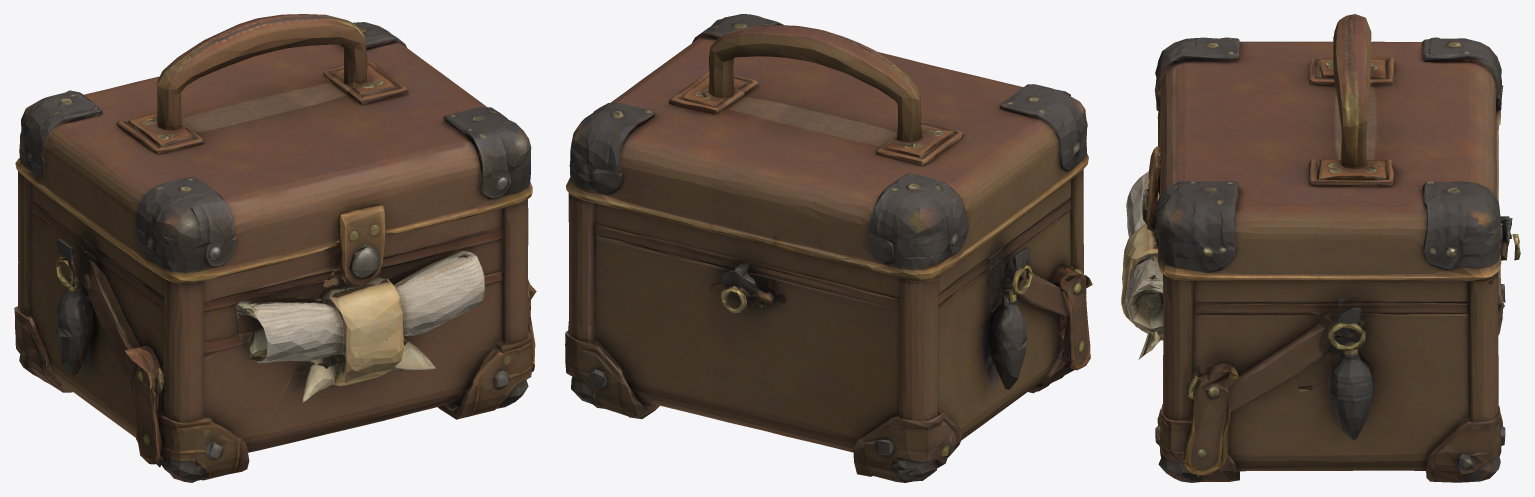
Rendered from simple_small_aid_kit__0608210628_texture.fbx.
3 renders of one model, left to right at view 1: azimuth 30°, elevation 25°; view 2: azimuth 150°, elevation 25°; view 3: azimuth 270°, elevation 25°, orthographic.
Parts seen in each view (by area): view 1: temp; view 2: temp; view 3: temp.
Part boxes in pixels (x1=…): temp: x1=14, y1=14, x2=536, y2=482; temp: x1=565, y1=14, x2=1092, y2=482; temp: x1=1121, y1=14, x2=1520, y2=482.
Bounding box in the file's own units: 200 × 170 × 166.
Materials: 1 (1 with a texture image).
